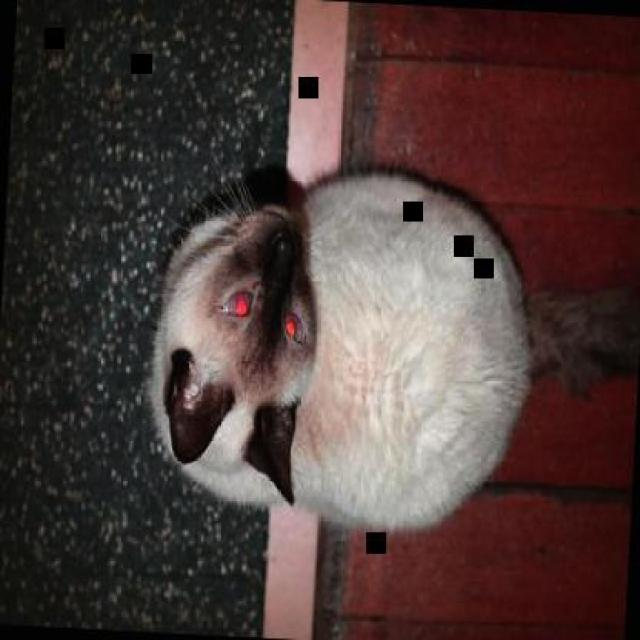cat: (137, 152, 638, 546)
